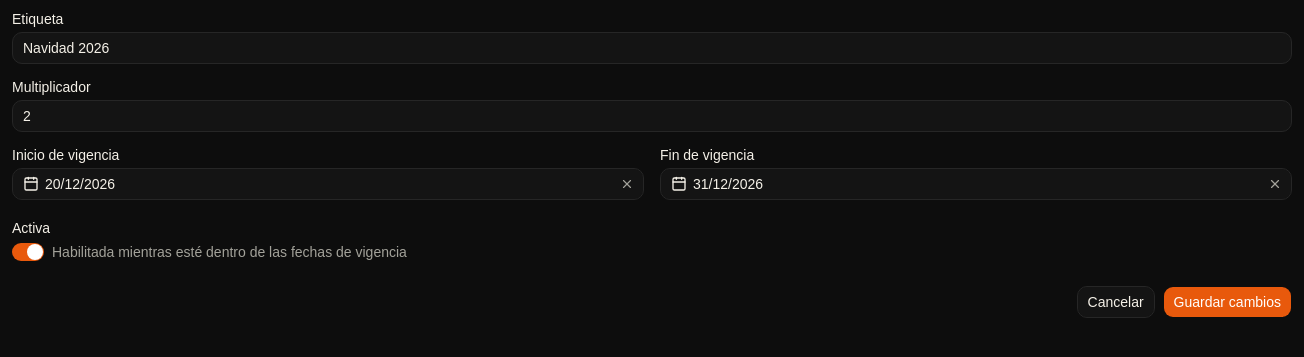
StarPromotionForm mapeo de errores del servidor › mapea un 400 con "fechas" (solapamiento) al campo endDate, no como error general
This screenshot has width=1304, height=357.
Click the button "Guardar cambios" at point(1227, 302), box [1163,286,1292,318]
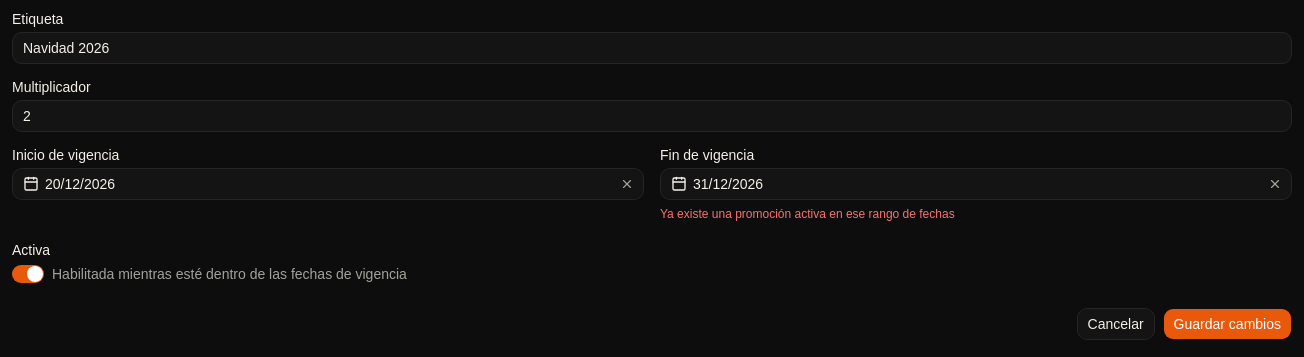
Result: the text "Ya existe una promoción activa en ese rango de fechas" is shown at [660,207,955,221]
